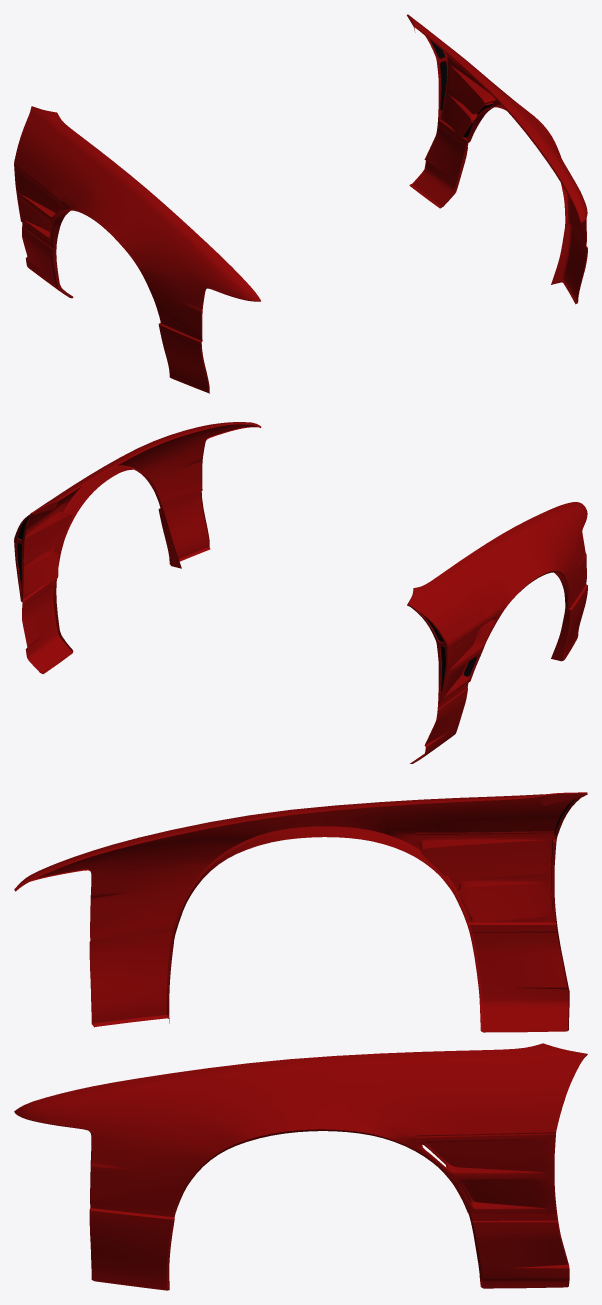
The model's file is frontfenders_dmax.glb.
3 renders of one model, top to bottom at view 1: azimuth 30°, elevation 25°; view 2: azimuth 150°, elevation 25°; view 3: azimuth 270°, elevation 25°, orthographic. The views are drawn at different scales.
Parts seen in each view (by area): view 1: Fenders; view 2: Fenders, Covers; view 3: Fenders.
Part boxes in pixels (<box>): Fenders: <box>14,14,587,393</box>; Fenders: <box>14,422,587,763</box>; Covers: <box>17,515,476,692</box>; Fenders: <box>14,792,587,1290</box>.
Bounding box in the file's own units: 1.77 × 0.6542 × 1.41.
